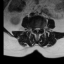CCS_normal: (37, 26, 38, 34)
LFS_severe_stenosis: (40, 26, 42, 31)
LLS_stenosis: (38, 26, 40, 31)
RFS_severe_stenosis: (33, 26, 35, 31)
RLS_stenosis: (35, 26, 37, 31)
